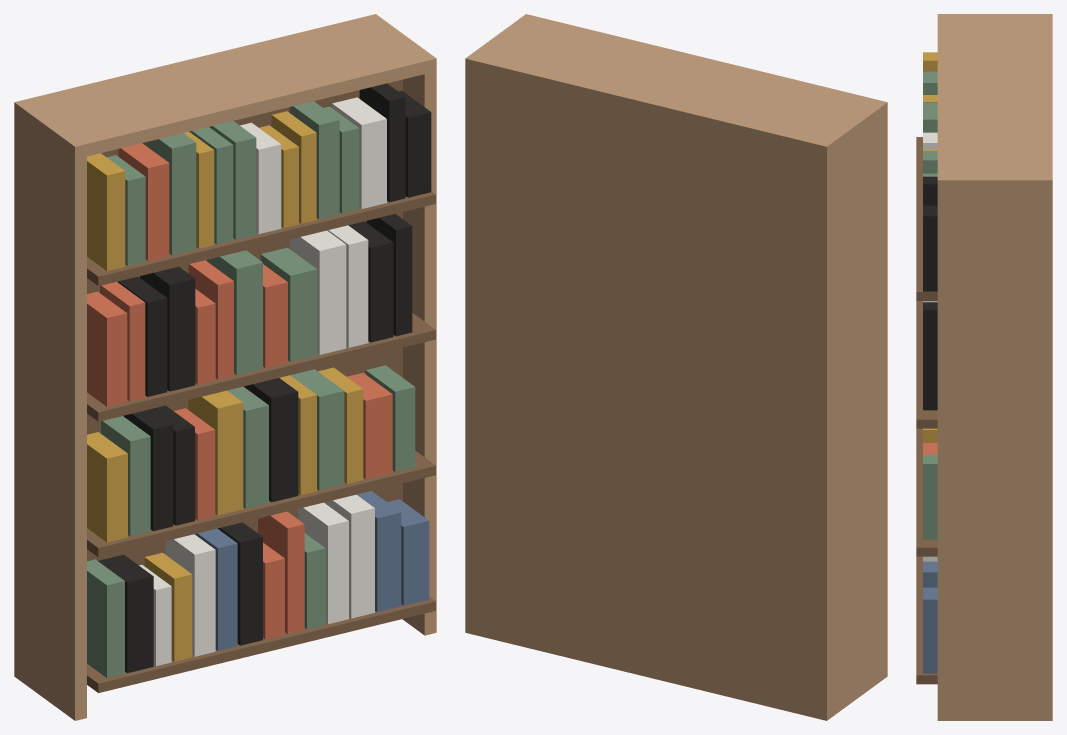
File: bookshelf.glb
The picture shows the model from 3 angles, left to right: view 1: azimuth 30°, elevation 25°; view 2: azimuth 150°, elevation 25°; view 3: azimuth 270°, elevation 25°; orthographic projection. The views are drawn at different scales.
Parts seen in each view (by area): view 1: SideL.001, TopB, SideR.001, Shelf2, Shelf1, Shelf3, Shelf0, Back.002, Book.027, Book.040, Book.036, Book.019 (+52 smaller); view 2: Rear, SideL.001, TopB, SideR.001; view 3: SideR.001, TopB, Rear, Book.039, Book.013, Book.054, Shelf3, Book.026, Shelf2, Shelf1, Shelf0, Book.053 (+6 smaller).
Part boxes in pixels (bbox=[...]): SideL.001: bbox=[19, 119, 86, 720]; TopB: bbox=[14, 14, 436, 158]; SideR.001: bbox=[402, 65, 436, 635]; Shelf2: bbox=[87, 313, 435, 421]; Shelf1: bbox=[87, 451, 435, 557]; Shelf3: bbox=[87, 191, 435, 286]; Shelf0: bbox=[87, 596, 435, 692]; Back.002: bbox=[87, 79, 402, 565]; Book.027: bbox=[87, 291, 127, 406]; Book.040: bbox=[87, 153, 125, 271]; Book.036: bbox=[290, 230, 346, 354]; Book.019: bbox=[188, 390, 243, 515]; Rear: bbox=[465, 65, 831, 720]; SideL.001: bbox=[815, 109, 887, 717]; TopB: bbox=[465, 14, 887, 157]; SideR.001: bbox=[465, 66, 477, 619]; SideR.001: bbox=[937, 186, 1052, 720]; TopB: bbox=[937, 14, 1052, 191]; Rear: bbox=[1042, 186, 1052, 720]; Book.039: bbox=[923, 302, 937, 410]; Book.013: bbox=[923, 587, 937, 673]; Book.054: bbox=[923, 205, 937, 291]; Shelf3: bbox=[916, 137, 937, 300]; Book.026: bbox=[923, 454, 937, 539]; Shelf2: bbox=[916, 301, 937, 428]; Shelf1: bbox=[916, 428, 937, 556]; Shelf0: bbox=[916, 556, 937, 684]; Book.053: bbox=[923, 176, 937, 205].
Size of the model in its own units: 1.2 by 1.82 by 0.415.
